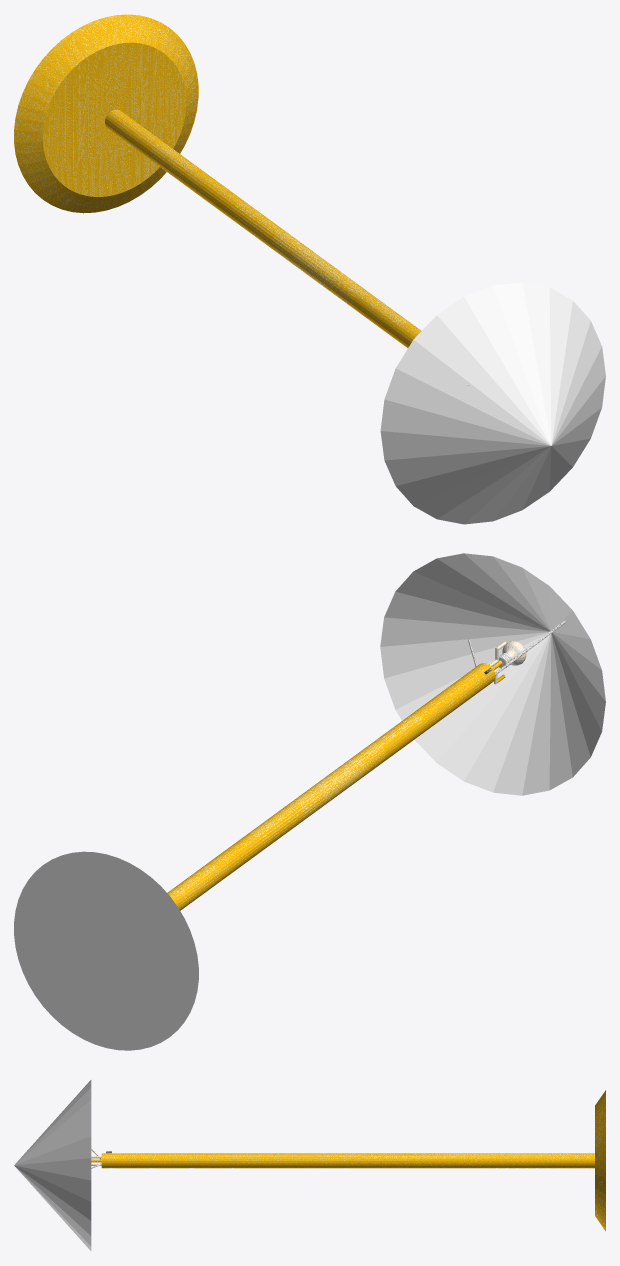
The picture shows the model from 3 angles, top to bottom: view 1: azimuth 30°, elevation 25°; view 2: azimuth 150°, elevation 25°; view 3: azimuth 270°, elevation 25°; orthographic projection. The views are drawn at different scales.
Parts seen in each view (by area): view 1: floor lamp; view 2: floor lamp; view 3: floor lamp.
Boxes of the visible parts, bbox=[...] form: floor lamp: bbox=[14, 14, 605, 524]; floor lamp: bbox=[14, 553, 605, 1050]; floor lamp: bbox=[14, 1080, 605, 1250].
Bounding box in the file's own units: 2083 × 2083 × 7117.
